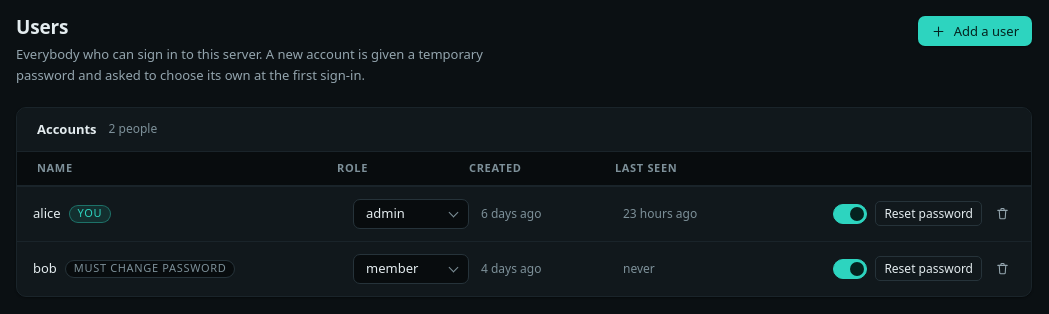
changing somebody › sends the new role, and the disabled flag, one field at a time
The width and height of the screenshot is (1049, 314).
Expected: the text "bob" is shown, [33, 259, 57, 278]
Select "admin" in the dropdown named "Role for bob" at [411, 269], box [353, 254, 469, 284]
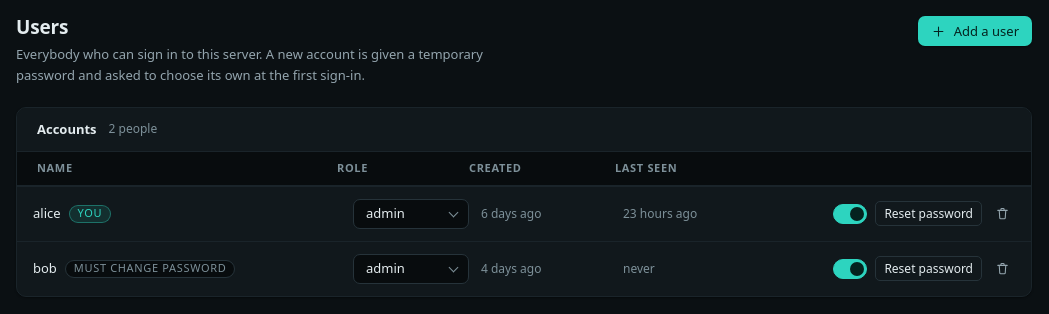
Click the switch named "Disable bob" at [850, 269], box [833, 259, 867, 279]
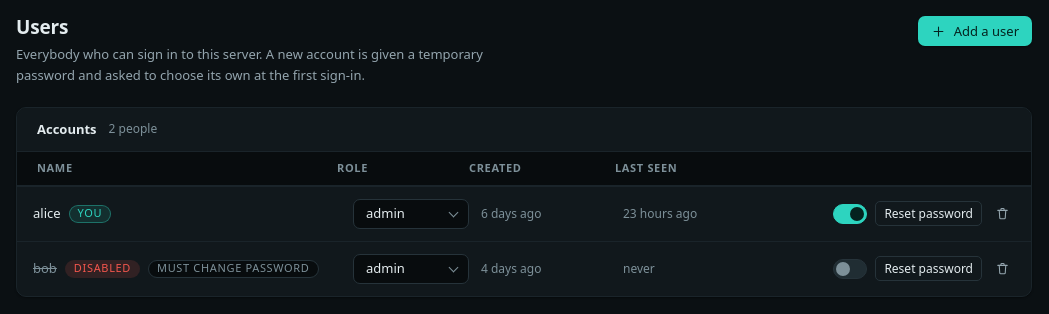
Now the switch named "Enable bob" is shown, box [833, 259, 867, 279]
